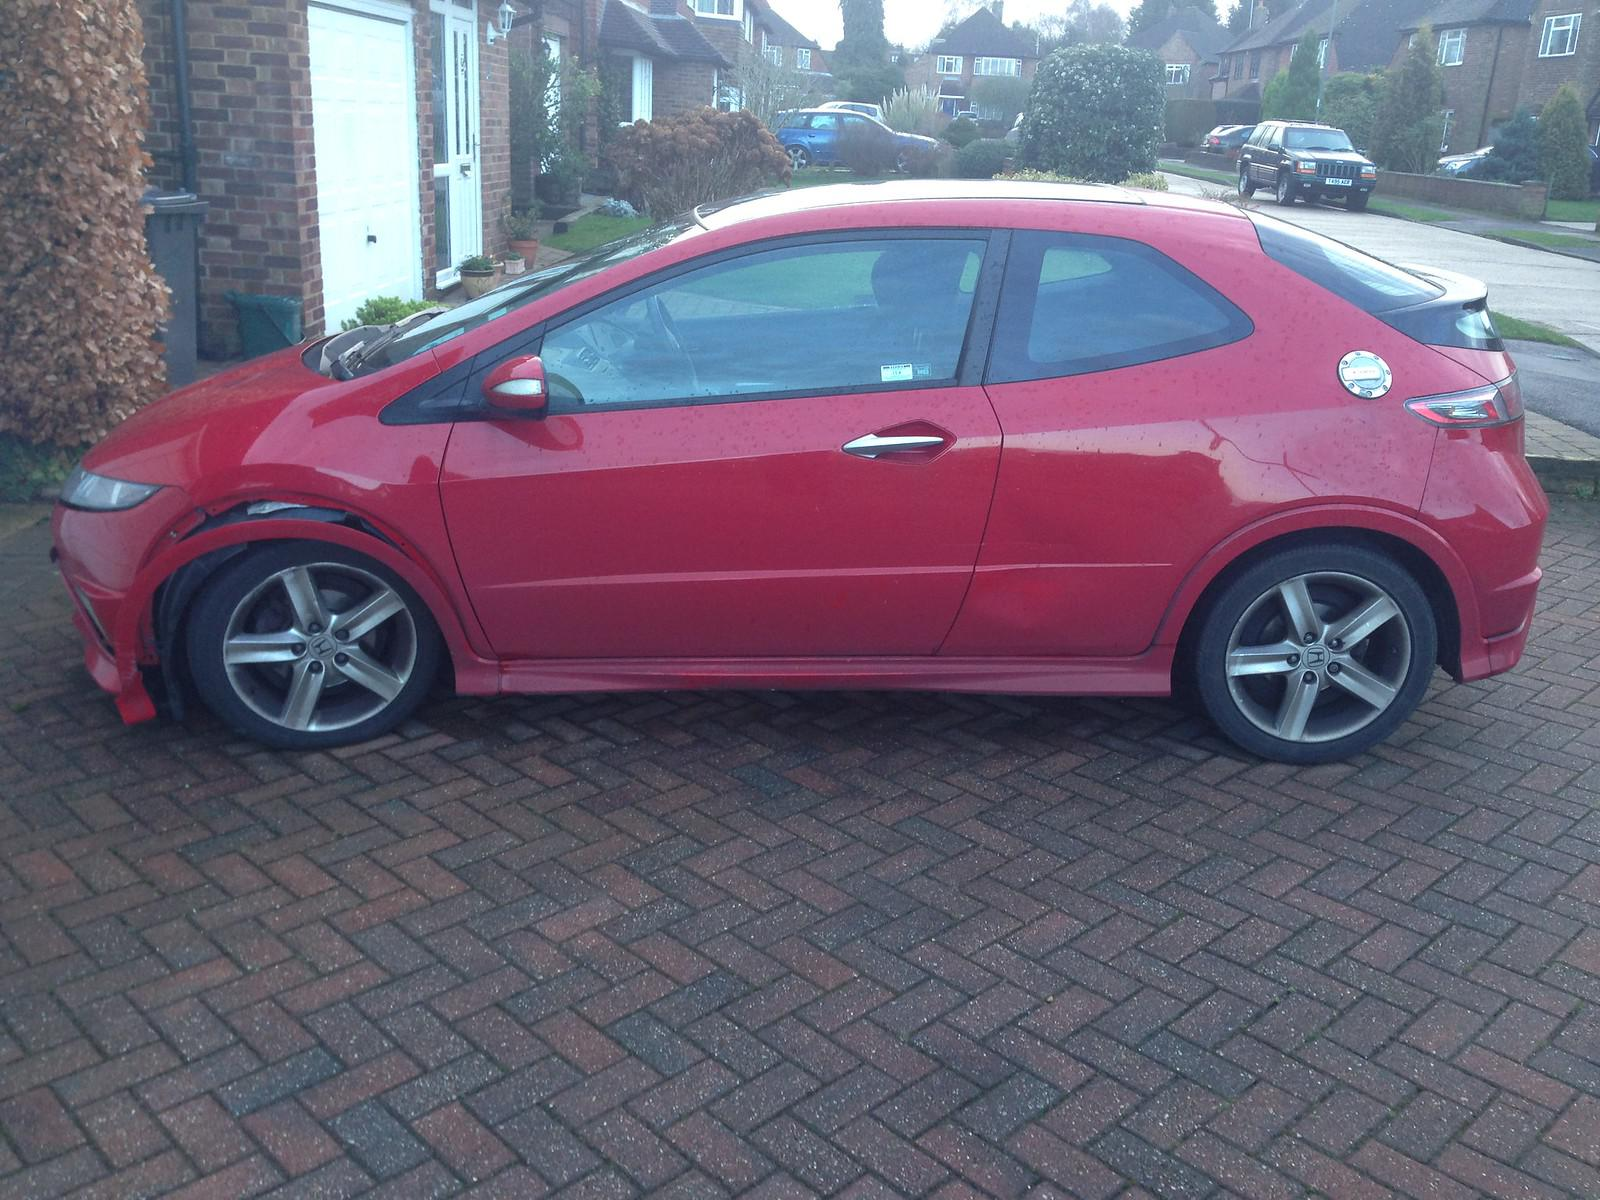RunningBoard-Dent: (455, 663, 1170, 716)
fender-dent: (189, 408, 452, 611)
